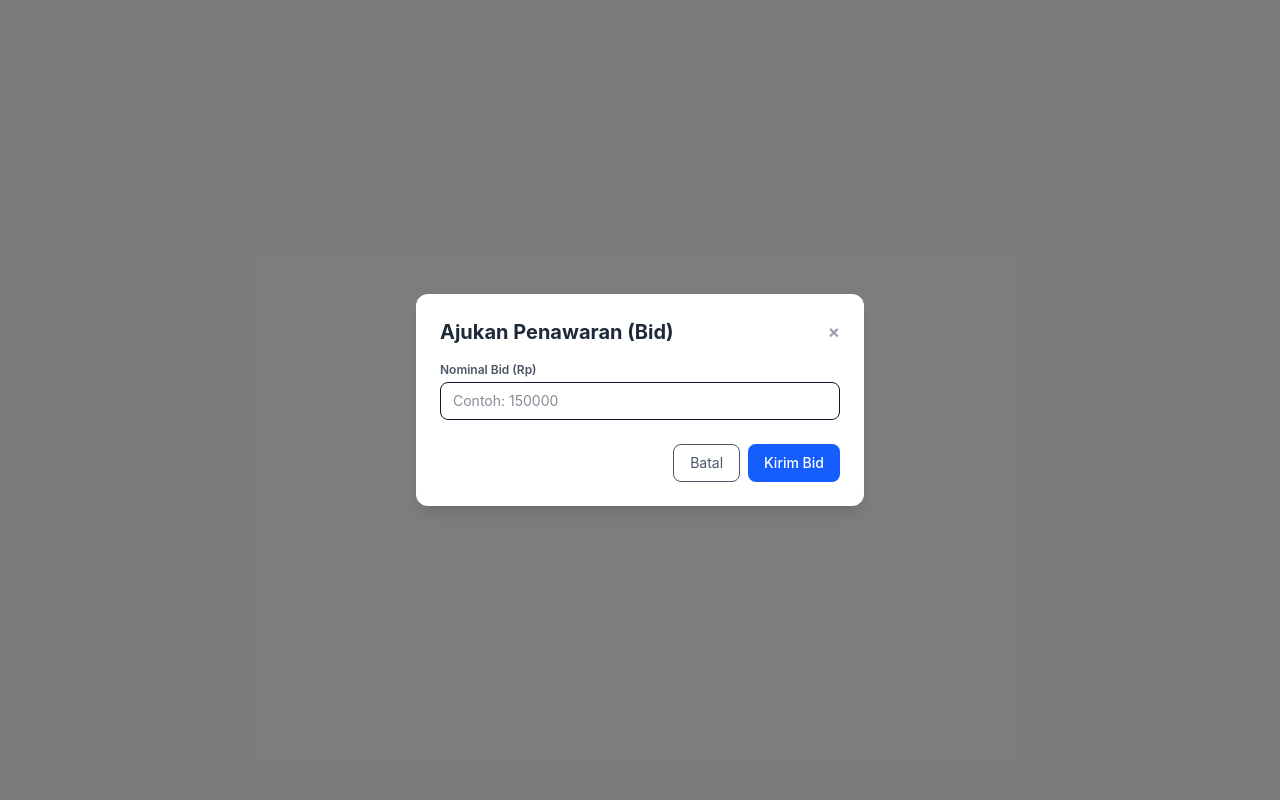
Test: BidModal.vue › handles success without custom message
The image size is (1280, 800).
Type "200000" into the number field labelled "Nominal Bid (Rp)" at (640, 401), box x1=440 y1=382 x2=840 y2=420
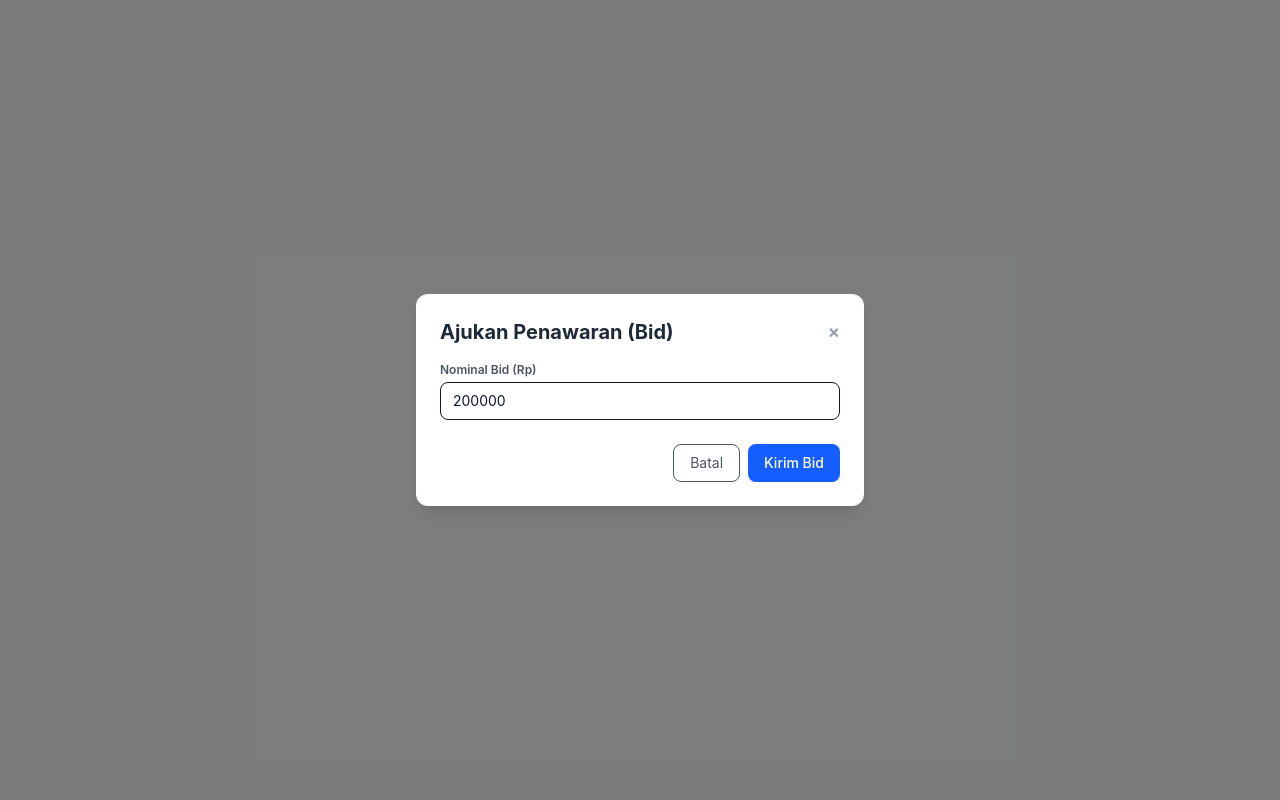
Submit the form, box x1=440 y1=362 x2=840 y2=482
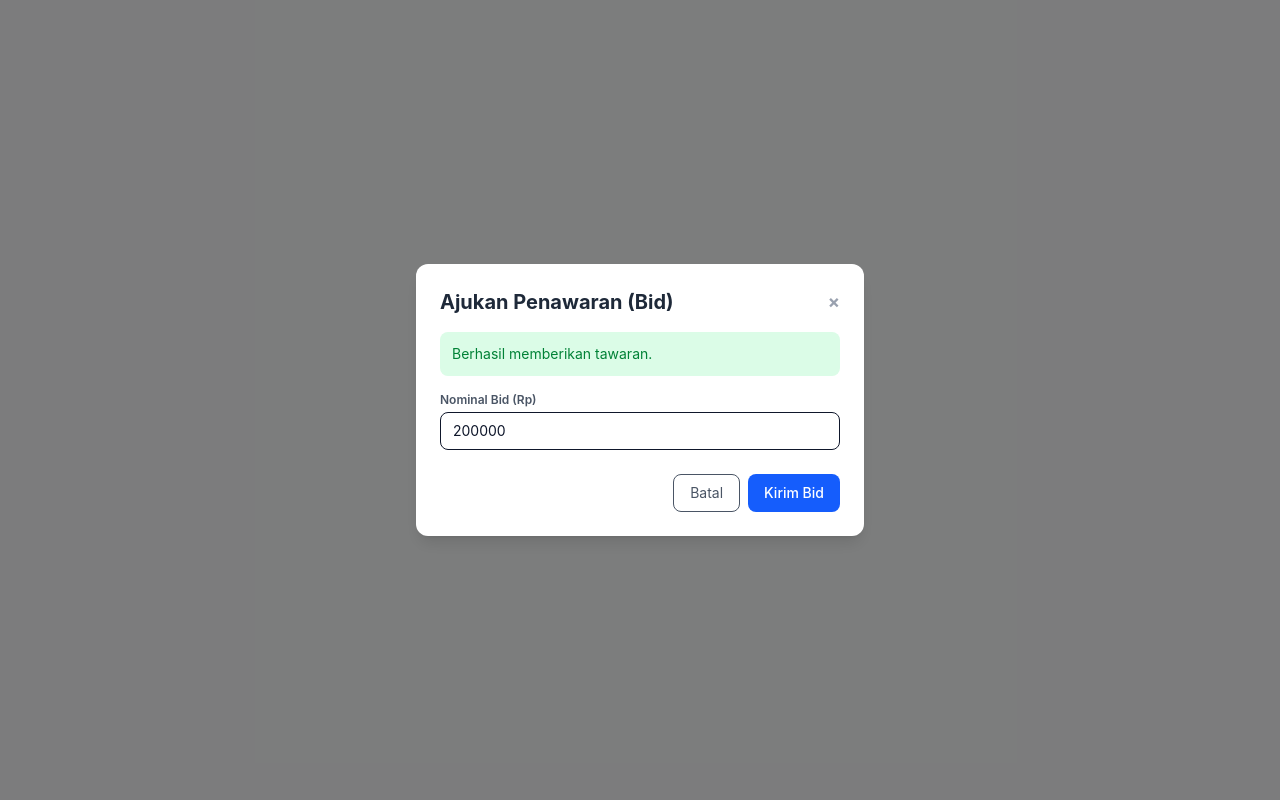
Check: the text "Berhasil memberikan tawaran." is shown, box x1=440 y1=332 x2=840 y2=376
